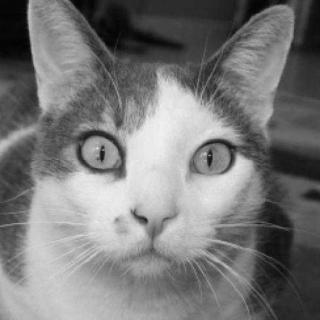cat: (25, 0, 292, 286)
nose: (128, 173, 187, 240)
